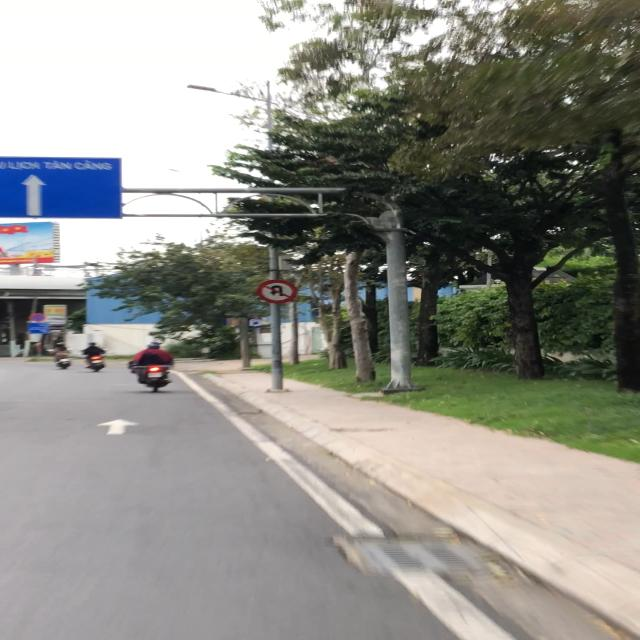Bien bao cam quay dau xe: (254, 278, 302, 304)
